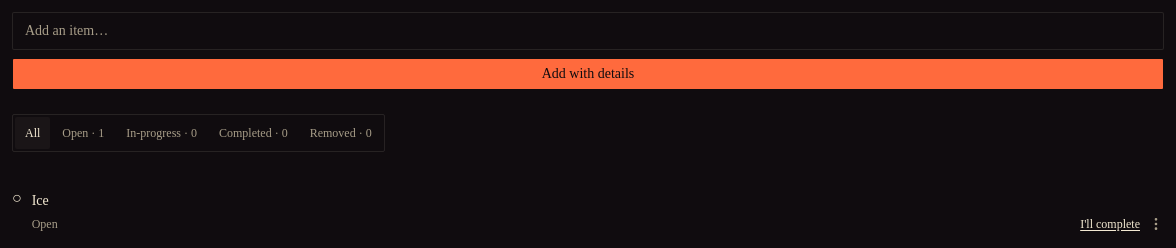
Test: <ShoppingList /> › does NOT show the big empty state when items exist but a filtered tab is merely empty
Click the button "Removed · 0". click: (341, 133)
box: [300, 117, 382, 149]
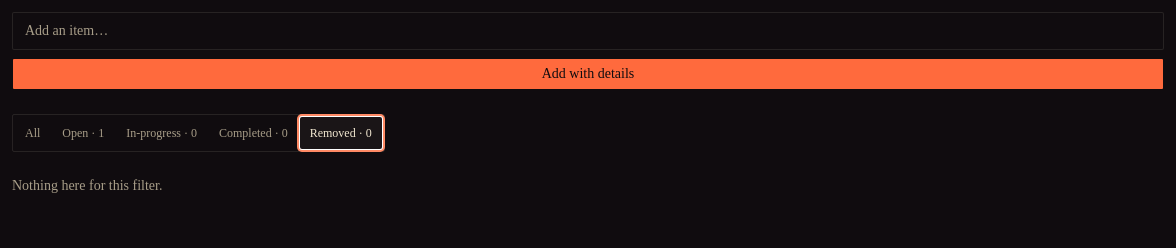
Now the text "Nothing here for this filter." is shown, box [12, 178, 162, 193]
